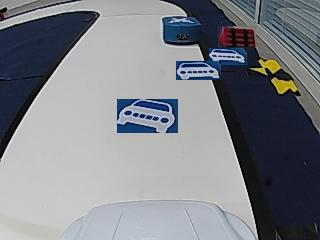prop: (162, 16, 201, 45)
